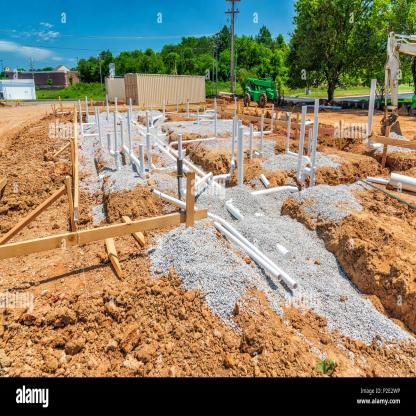PVC: (208, 212, 298, 290), (250, 99, 319, 197), (130, 99, 188, 197), (182, 117, 236, 190), (244, 104, 276, 160), (120, 109, 144, 180), (183, 97, 217, 144), (78, 100, 101, 142), (152, 188, 187, 210), (108, 111, 120, 171), (153, 136, 178, 163), (236, 119, 244, 187), (225, 199, 245, 223), (150, 99, 165, 128), (166, 93, 180, 115), (285, 112, 292, 156), (276, 243, 291, 259), (259, 174, 270, 188), (85, 98, 90, 123), (115, 98, 118, 118), (146, 112, 149, 131), (106, 97, 108, 124)
